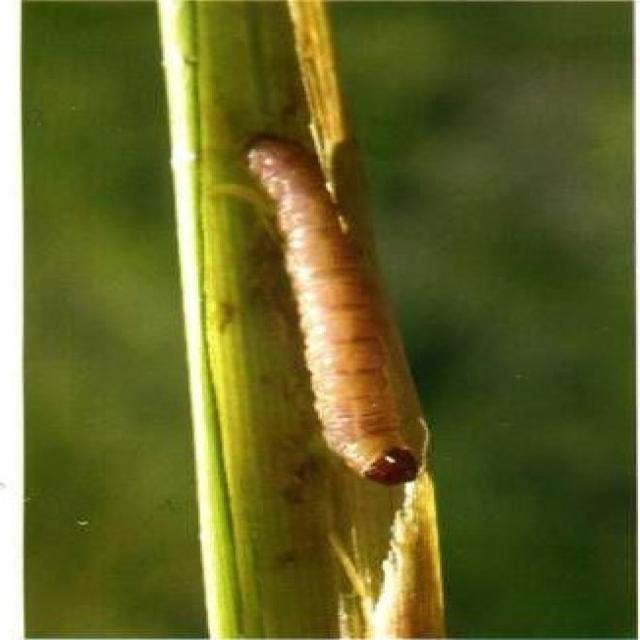peach borer: (223, 130, 439, 483)
